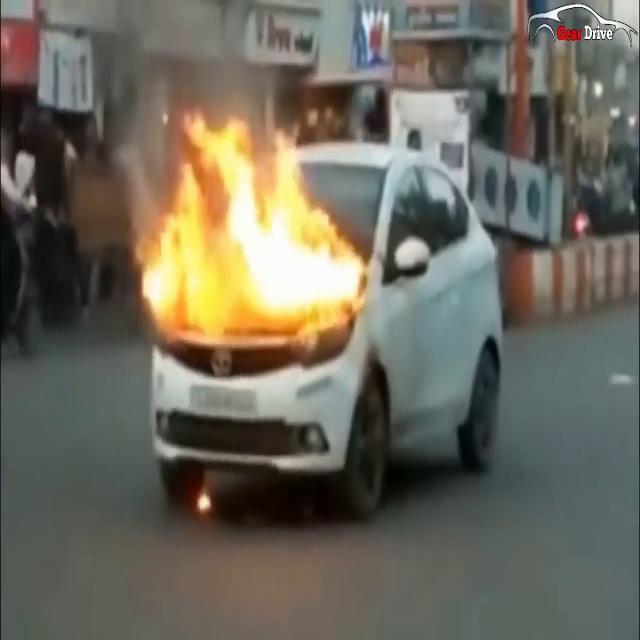Fire: (137, 97, 365, 339)
